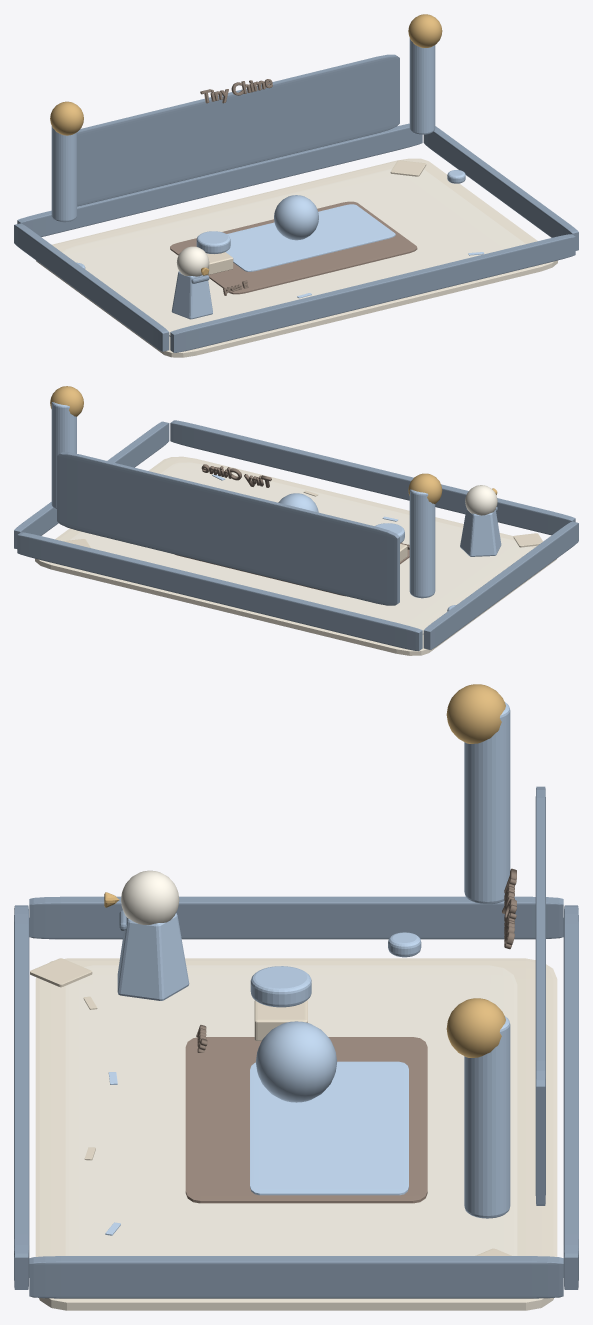
File: 07_speakers.glb
3 views of the same model, one above another, from view 1: azimuth 30°, elevation 25°; view 2: azimuth 150°, elevation 25°; view 3: azimuth 270°, elevation 25° (orthographic). The views are drawn at different scales.
Visible parts, largest first — view 1: BackCard, FloorLayerInset, SouthRail-col, NorthRail-col, PaperFloor-col, StageMatHighlight, StageMat, WestRail-col, EastRail-col, PaperLantern.001, FpeRushPlayer, PaperLantern (+7 smaller); view 2: BackCard, FloorLayerInset, NorthRail-col, SouthRail-col, PaperFloor-col, WestRail-col, PaperLantern, FpeRushPlayer, EastRail-col, PaperLantern.001, LanternGlow.001, LanternGlow (+2 smaller); view 3: FloorLayerInset, PaperFloor-col, EastRail-col, WestRail-col, StageMatHighlight, StageMat, PaperLantern.001, PaperLantern, FpeRushPlayer, NorthRail-col, SouthRail-col, TinyChimeSpeaker (+7 smaller).
Part boxes in pixels (x1,y1,x2,y2): BackCard: (77, 54, 399, 206); FloorLayerInset: (62, 168, 525, 336); SouthRail-col: (170, 234, 575, 352); NorthRail-col: (17, 123, 422, 236); PaperFloor-col: (36, 158, 557, 357); StageMatHighlight: (225, 204, 395, 271); StageMat: (170, 201, 417, 294); WestRail-col: (14, 223, 169, 351); EastRail-col: (423, 126, 578, 250); PaperLantern.001: (409, 38, 435, 134); FpeRushPlayer: (171, 246, 212, 319); PaperLantern: (51, 126, 76, 222); BackCard: (57, 452, 399, 605); FloorLayerInset: (70, 462, 533, 634); NorthRail-col: (17, 532, 422, 650); SouthRail-col: (170, 420, 575, 535); PaperFloor-col: (35, 456, 556, 655); WestRail-col: (423, 521, 578, 649); PaperLantern: (409, 489, 435, 598); FpeRushPlayer: (460, 485, 501, 556); EastRail-col: (14, 421, 169, 548); PaperLantern.001: (51, 402, 76, 509); LanternGlow.001: (50, 386, 83, 416); LanternGlow: (408, 473, 442, 503); FloorLayerInset: (65, 965, 517, 1255); PaperFloor-col: (35, 958, 557, 1310); EastRail-col: (29, 1256, 563, 1298); WestRail-col: (29, 896, 563, 939); StageMatHighlight: (250, 1061, 408, 1195); StageMat: (185, 1037, 427, 1203); PaperLantern.001: (464, 1016, 510, 1218); PaperLantern: (464, 702, 510, 904); FpeRushPlayer: (104, 870, 189, 1000); NorthRail-col: (563, 905, 578, 1289); SouthRail-col: (14, 905, 29, 1289); TinyChimeSpeaker: (256, 1021, 336, 1102).
Size of the model in its own units: 6.8 by 2.56 by 4.44.
